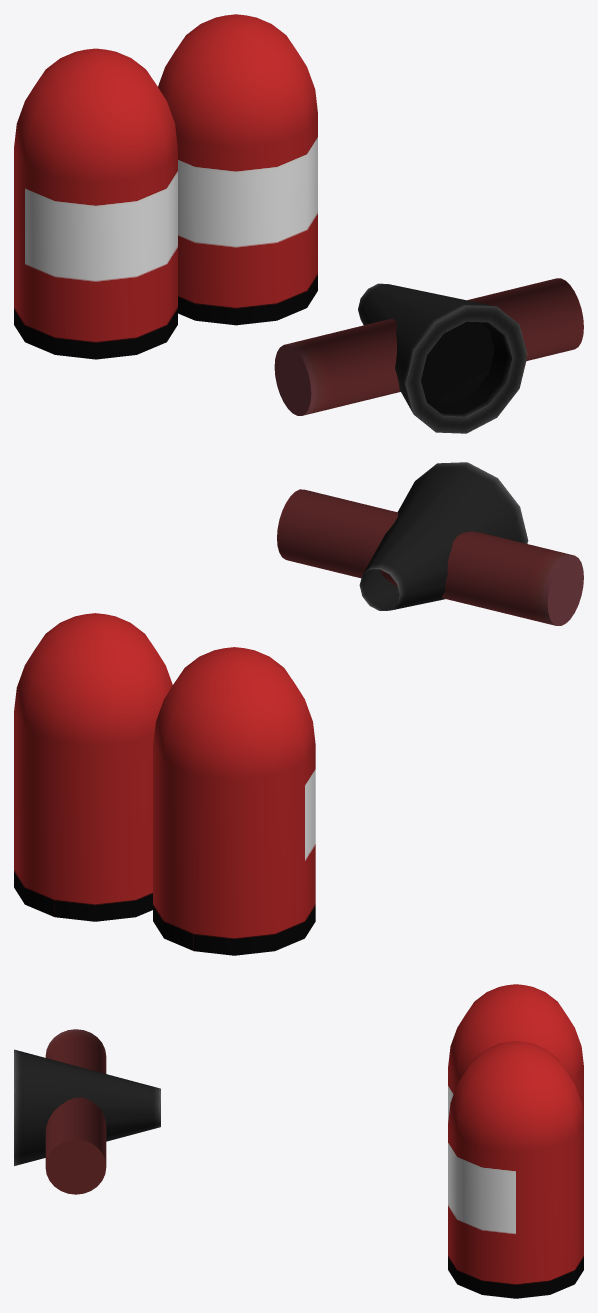
File: Flamethrower.fbx
3 renders of one model, top to bottom at view 1: azimuth 30°, elevation 25°; view 2: azimuth 150°, elevation 25°; view 3: azimuth 270°, elevation 25°, orthographic. The views are drawn at different scales.
Visible parts, largest first — view 1: Flamethrower; view 2: Flamethrower; view 3: Flamethrower.
Boxes of the visible parts, x1,y1,x2,y2 form: Flamethrower: [14, 14, 583, 433]; Flamethrower: [14, 462, 583, 955]; Flamethrower: [14, 984, 583, 1298].
Size of the model in its own units: 0.7149 by 0.6554 by 1.51.
